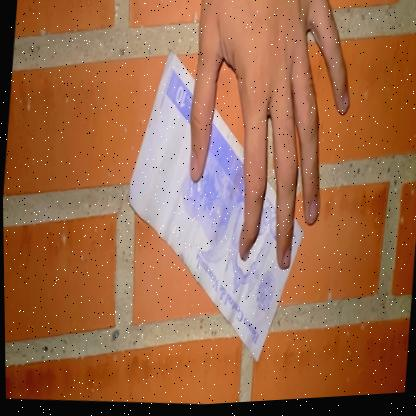ten-front-vef: (108, 42, 317, 375)
